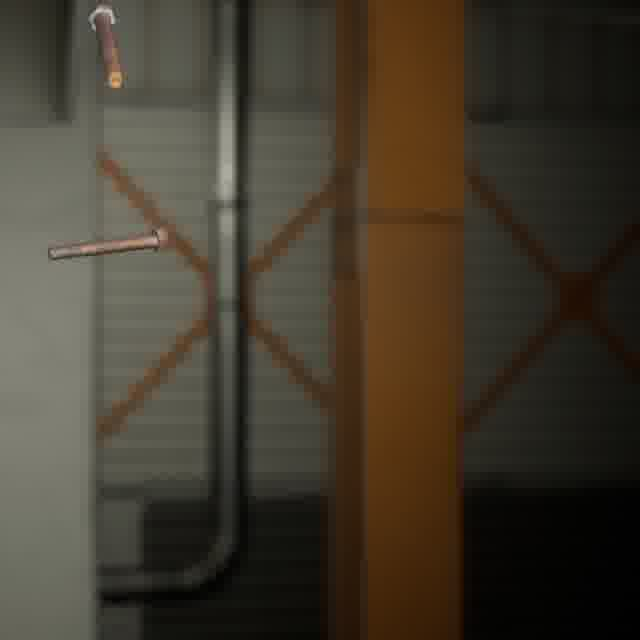bolt: (43, 223, 172, 264), (83, 0, 128, 92)
